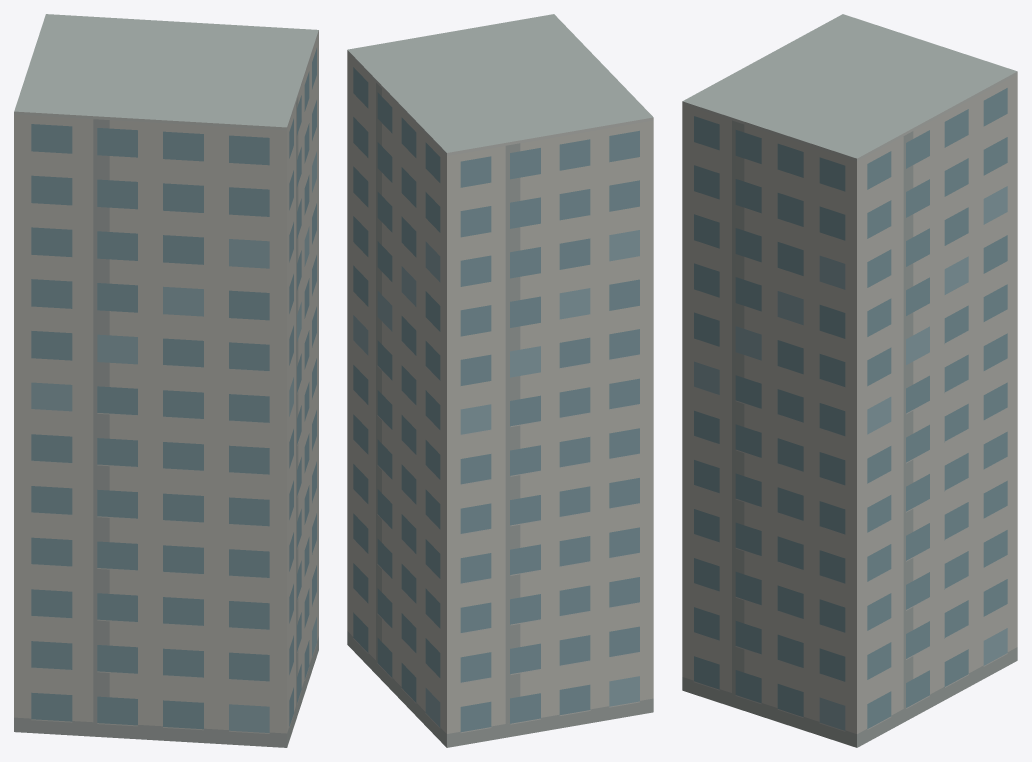
The model's file is residential-cb826f08-36cc-47be-9f75-94373f0e76dd.glb.
The picture shows the model from 3 angles, left to right: view 1: azimuth 30°, elevation 25°; view 2: azimuth 150°, elevation 25°; view 3: azimuth 270°, elevation 25°; orthographic projection. The views are drawn at different scales.
Parts seen in each view (by area): view 1: residential-cb826f08-36cc-47be-9f75-94373f0e76dd.tmp; view 2: residential-cb826f08-36cc-47be-9f75-94373f0e76dd.tmp; view 3: residential-cb826f08-36cc-47be-9f75-94373f0e76dd.tmp.
Boxes of the visible parts, <box> form: residential-cb826f08-36cc-47be-9f75-94373f0e76dd.tmp: <box>14,14,318,747</box>; residential-cb826f08-36cc-47be-9f75-94373f0e76dd.tmp: <box>347,14,653,747</box>; residential-cb826f08-36cc-47be-9f75-94373f0e76dd.tmp: <box>682,14,1017,747</box>.
Size of the model in its own units: 26.33 by 50 by 25.79.
